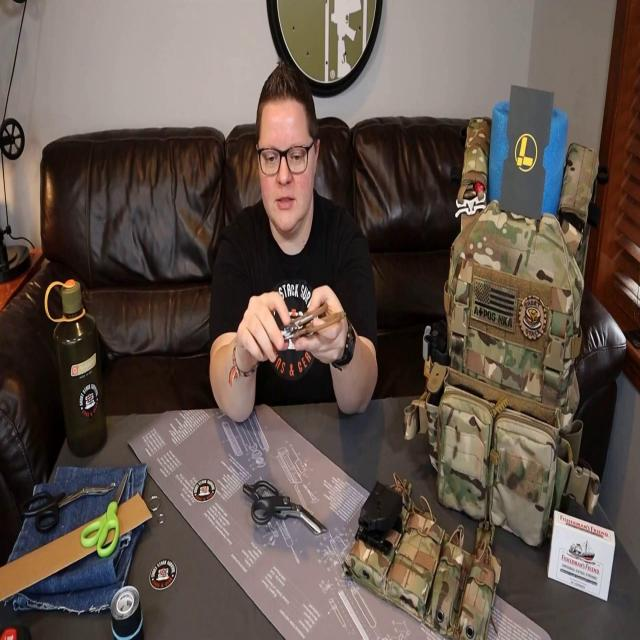scissor: (19, 481, 116, 533), (244, 480, 328, 536), (80, 473, 128, 559)
